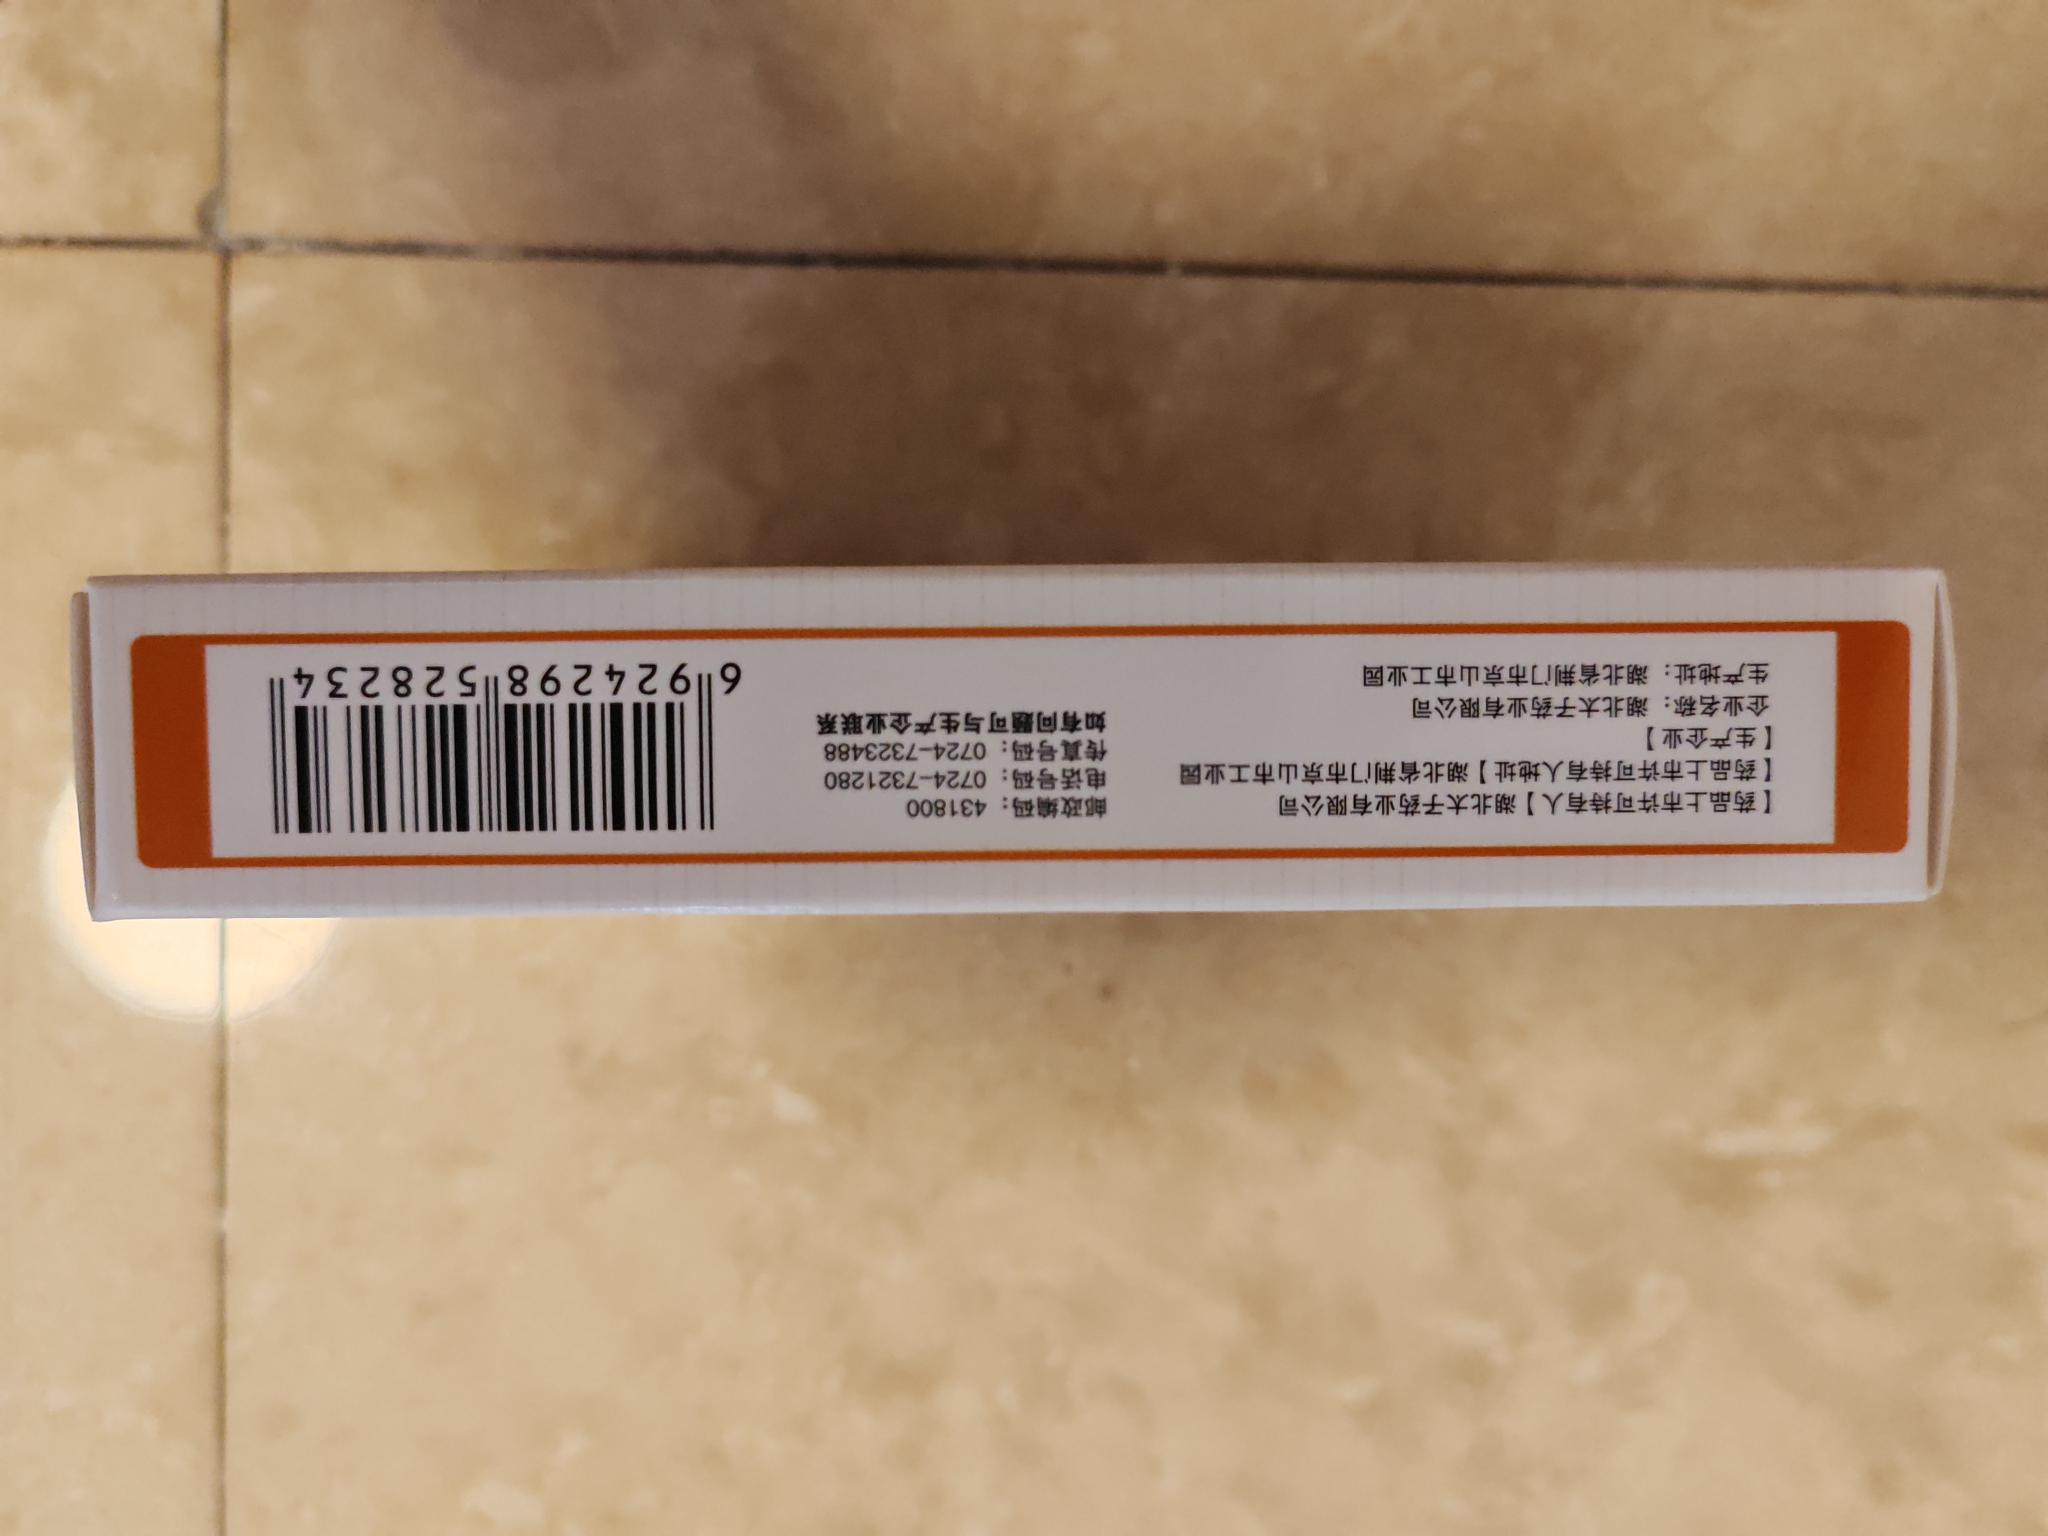Medicine5: (58, 537, 1982, 965)
